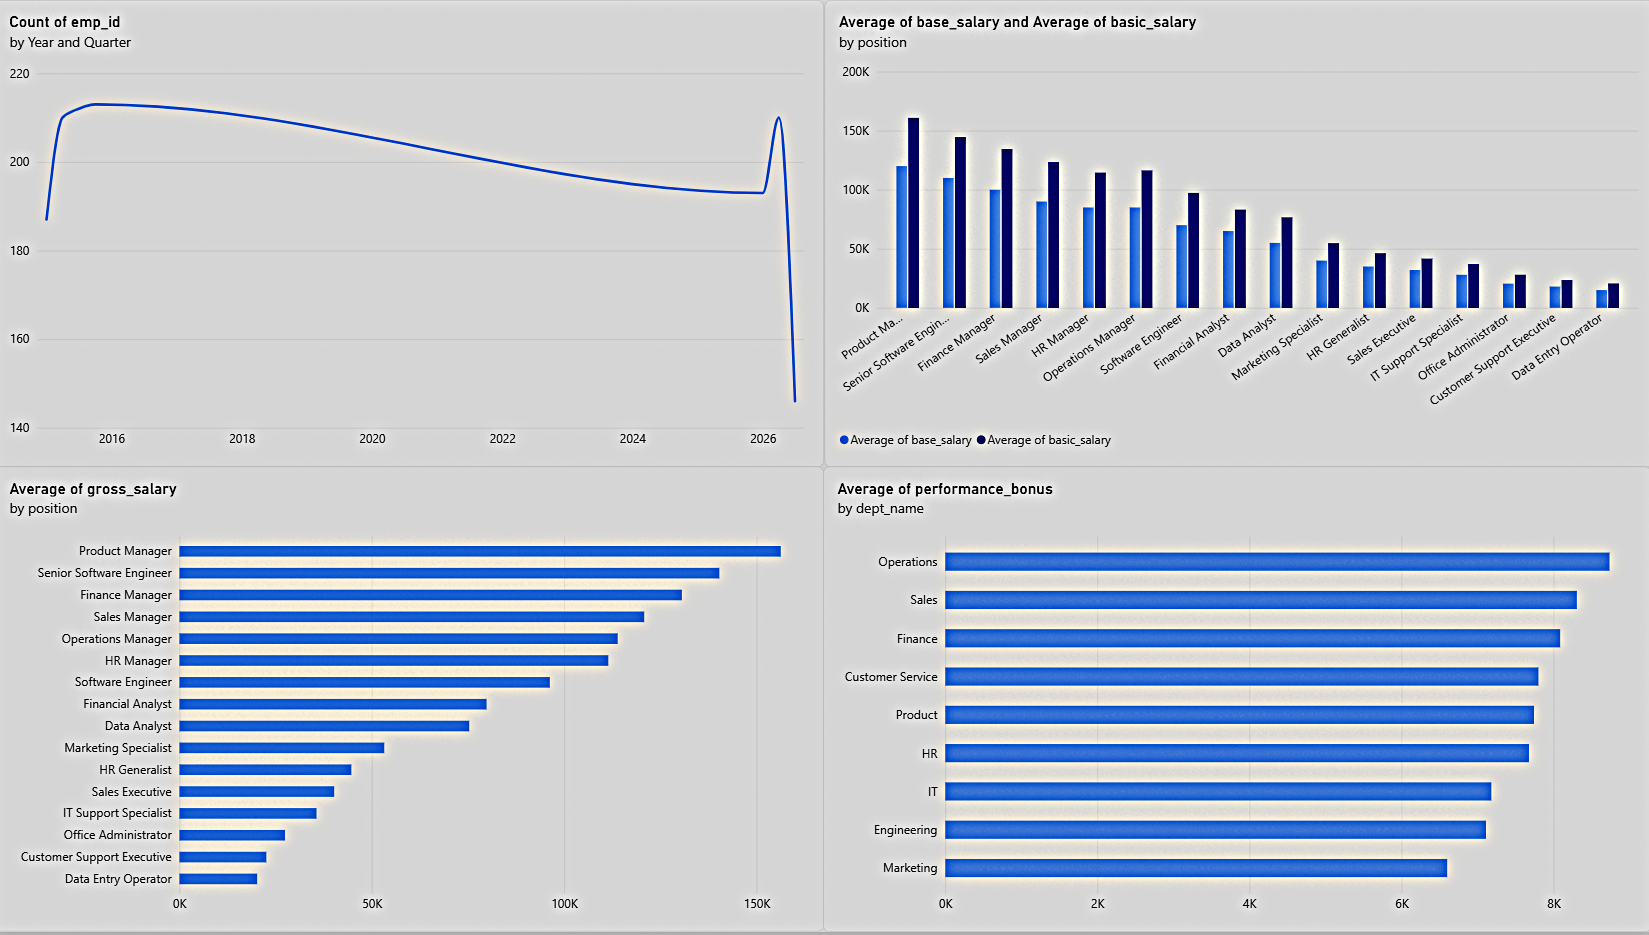

The dashboard page shown, as its layout file describes it:
{"tool":"powerbi","page":{"name":"Page 2","canvas":[1920,1080],"ordinal":1},"visuals":[{"type":"lineChart","fields":{"Category":["hr_workforce_analytics employees.hire_date.Variation.Date Hierarchy.Year","hr_workforce_analytics employees.hire_date.Variation.Date Hierarchy.Quarter","hr_workforce_analytics employees.hire_date.Variation.Date Hierarchy.Month","hr_workforce_analytics employees.hire_date.Variation.Date Hierarchy.Day"],"Y":["CountNonNull(hr_workforce_analytics employees.emp_id)"]},"box":[0,0,960.4,541],"z":0},{"type":"clusteredBarChart","fields":{"Category":["hr_workforce_analytics job_roles.position"],"Y":["Avg(hr_workforce_analytics salaries.gross_salary)"]},"box":[0,541,960.4,538.9],"z":1000},{"type":"clusteredColumnChart","fields":{"Category":["hr_workforce_analytics job_roles.position"],"Y":["Avg(hr_workforce_analytics job_roles.base_salary)","Avg(hr_workforce_analytics salaries.basic_salary)"]},"box":[960.4,0,960.4,541],"z":2000},{"type":"clusteredBarChart","fields":{"Category":["hr_workforce_analytics departments.dept_name"],"Y":["Avg(hr_workforce_analytics salaries.performance_bonus)"]},"box":[960,541,960,539],"z":3000}]}

Visuals, with their boxes in screenshot pixels (x1, y1, x2, y2), scaled from the page's 1920x1080 canvas onto the 1649x935 screenshot:
lineChart - hr_workforce_analytics employees.hire_date.Variation.Date Hierarchy.Year x hr_workforce_analytics employees.hire_date.Variation.Date Hierarchy.Quarter: x1=0 y1=0 x2=825 y2=468
clusteredBarChart - hr_workforce_analytics job_roles.position x Avg(hr_workforce_analytics salaries.gross_salary): x1=0 y1=468 x2=825 y2=934
clusteredColumnChart - hr_workforce_analytics job_roles.position x Avg(hr_workforce_analytics job_roles.base_salary): x1=825 y1=0 x2=1648 y2=468
clusteredBarChart - hr_workforce_analytics departments.dept_name x Avg(hr_workforce_analytics salaries.performance_bonus): x1=824 y1=468 x2=1648 y2=934
